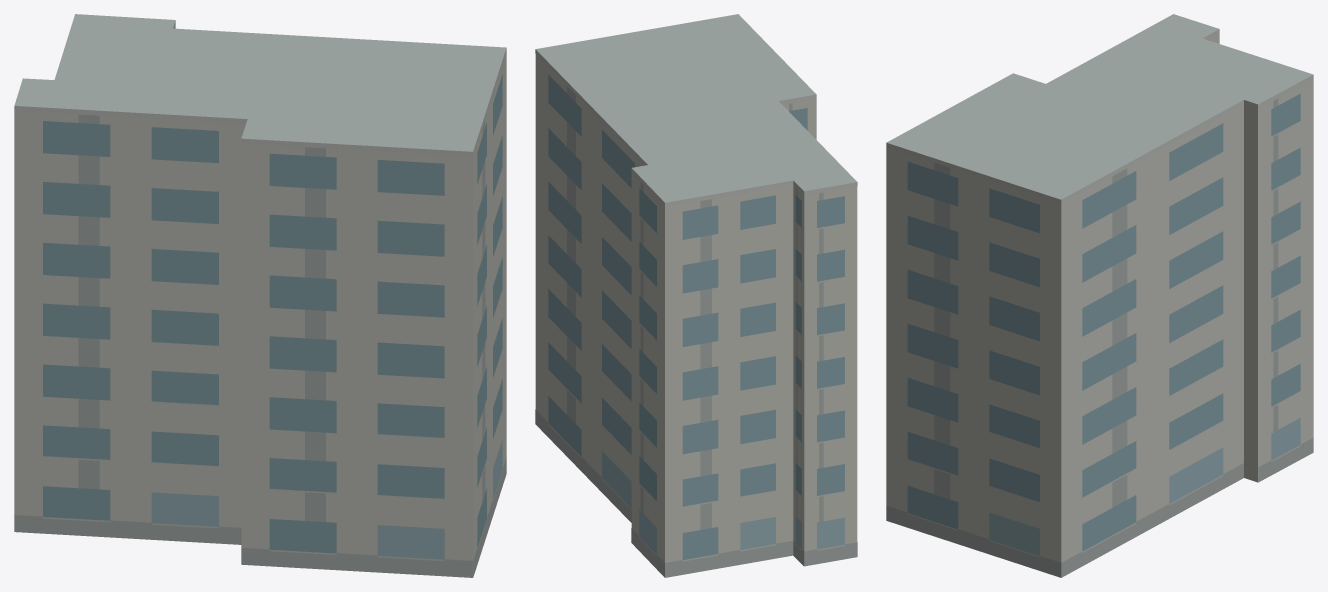
Rendered from survey-upis-32992489.glb.
The picture shows the model from 3 angles, left to right: view 1: azimuth 30°, elevation 25°; view 2: azimuth 150°, elevation 25°; view 3: azimuth 270°, elevation 25°; orthographic projection. The views are drawn at different scales.
Parts seen in each view (by area): view 1: survey-upis-32992489.tmp; view 2: survey-upis-32992489.tmp; view 3: survey-upis-32992489.tmp.
Boxes of the visible parts, box(x1,y1,x2,y2) form: survey-upis-32992489.tmp: box(14, 14, 506, 577); survey-upis-32992489.tmp: box(535, 14, 857, 577); survey-upis-32992489.tmp: box(886, 14, 1313, 577).
Size of the model in its own units: 21.58 by 20.47 by 20.96.
